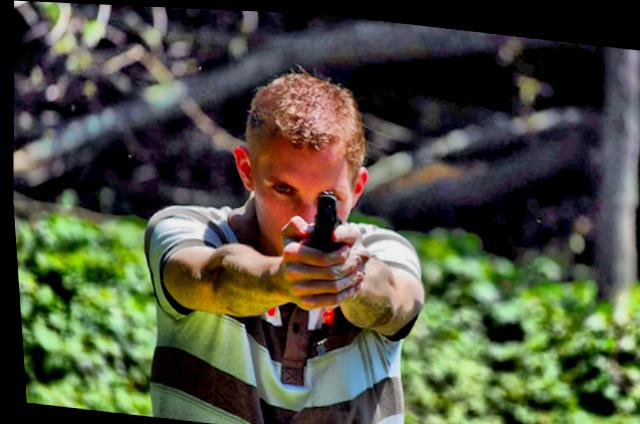pistol: (306, 183, 343, 254)
